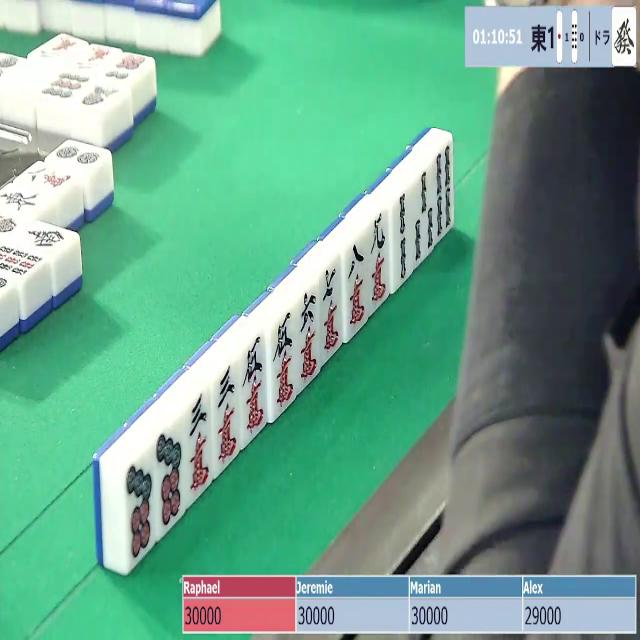2B: (394, 186, 416, 289)
3B: (416, 168, 435, 264)
3C: (185, 390, 212, 499)
4B: (434, 142, 456, 242)
5C: (240, 332, 266, 437), (272, 311, 298, 416)
6C: (213, 362, 241, 469), (299, 288, 322, 386)
7C: (320, 262, 342, 358)
7D: (124, 452, 156, 566), (155, 422, 186, 534)
8C: (345, 238, 368, 336)
9C: (369, 210, 392, 310)
GD: (613, 9, 636, 65)
